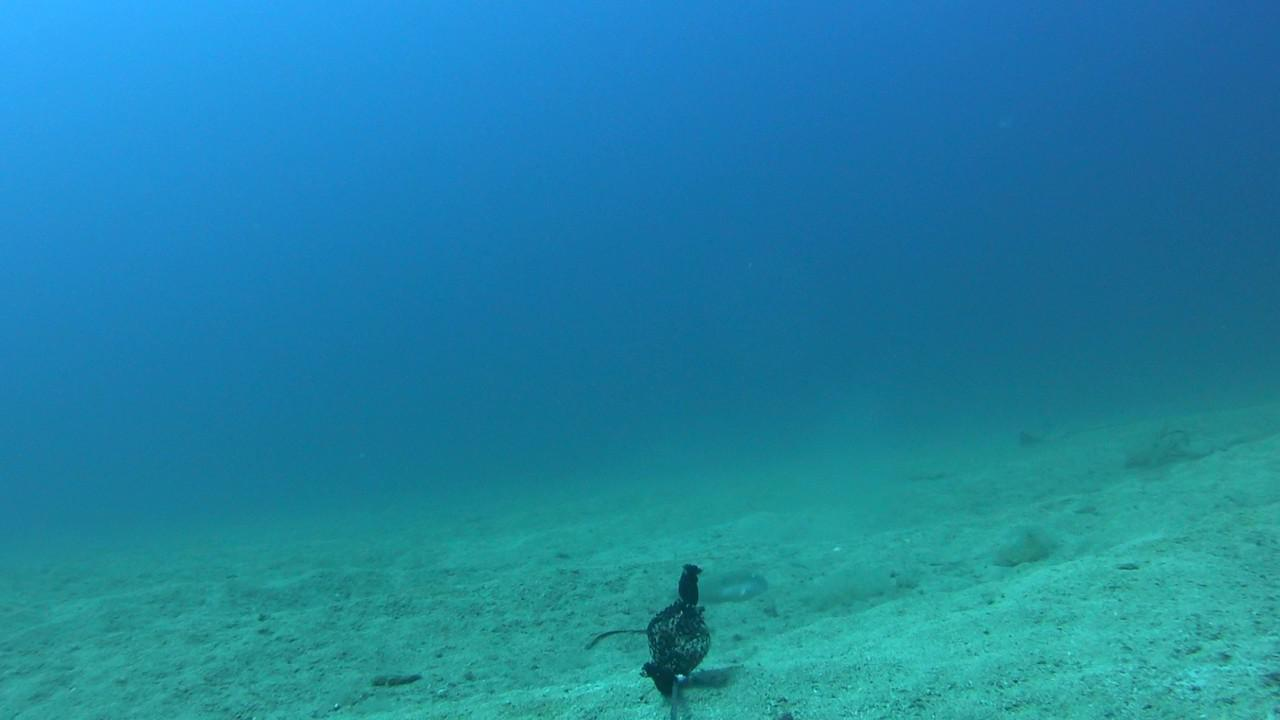myliobatis: (979, 407, 1136, 456)
